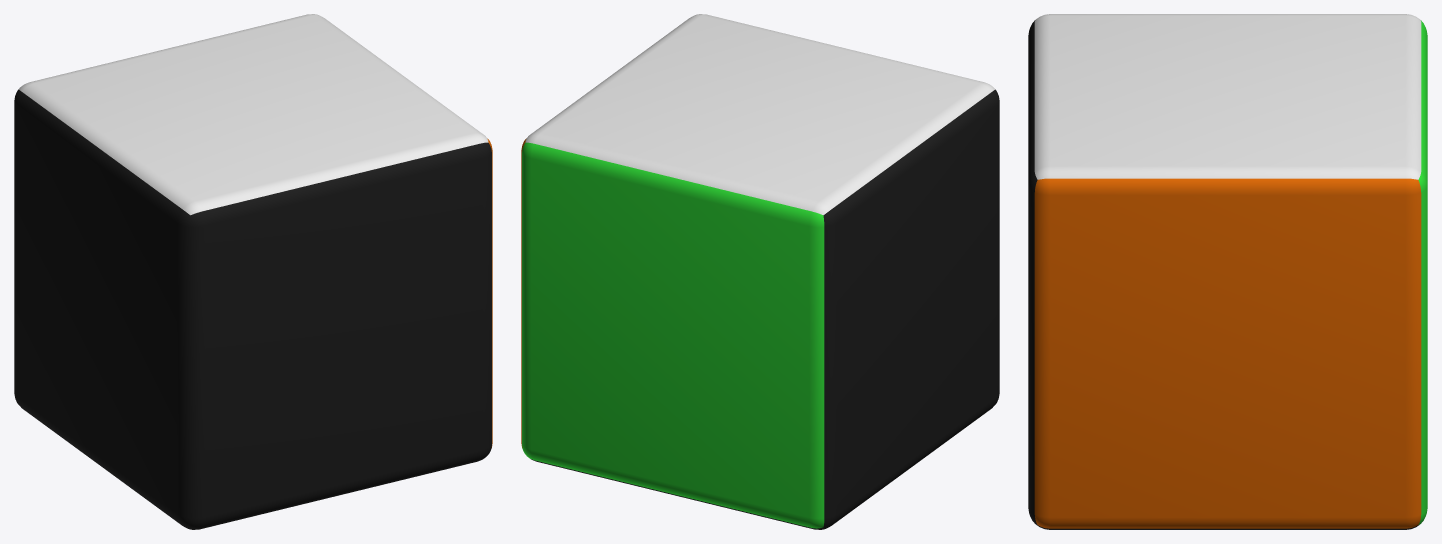
File: wog_corner.glb
The picture shows the model from 3 angles, left to right: view 1: azimuth 30°, elevation 25°; view 2: azimuth 150°, elevation 25°; view 3: azimuth 270°, elevation 25°; orthographic projection. The views are drawn at different scales.
Parts seen in each view (by area): view 1: Cube.003; view 2: Cube.003; view 3: Cube.003.
Part boxes in pixels (box(x1,y1,x2,y2)): Cube.003: box(14, 14, 492, 529); Cube.003: box(521, 14, 999, 529); Cube.003: box(1028, 14, 1427, 529).
Size of the model in its own units: 2 by 2 by 2.
